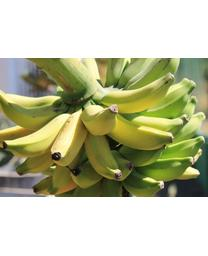banana: (0, 60, 206, 195)
